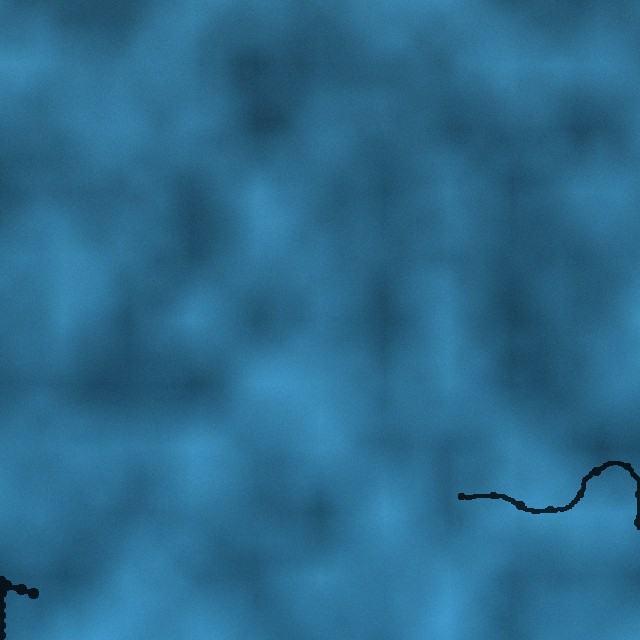crack: (457, 458, 639, 532), (0, 575, 38, 639)
